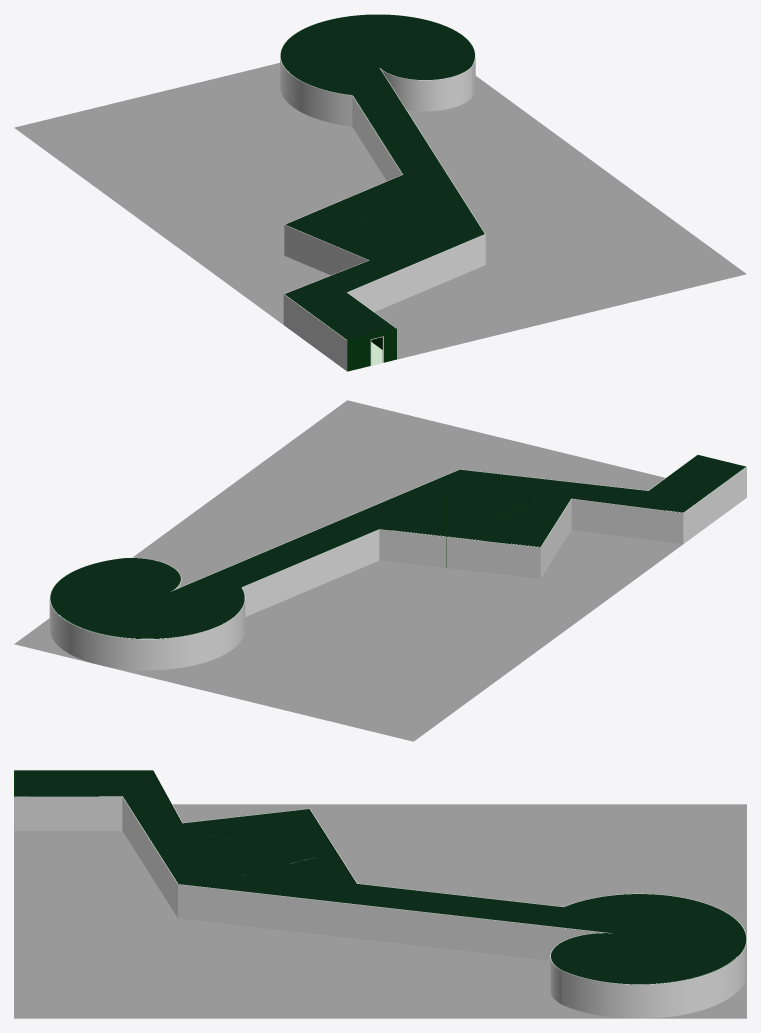
File: gallery.obj
The picture shows the model from 3 angles, top to bottom: view 1: azimuth 30°, elevation 25°; view 2: azimuth 150°, elevation 25°; view 3: azimuth 270°, elevation 25°; orthographic projection. The views are drawn at different scales.
Parts seen in each view (by area): view 1: ground_1, room_17_99, wall_4_23, wall_10_59, wall_9_53, wall_6_34, wall_2_10, wall_12_71, wall_1_4; view 2: ground_1, room_17_99, wall_9_53, wall_12_71, wall_5_28, wall_16_95, wall_15_89, wall_2_10, wall_6_34; view 3: ground_1, room_17_99, wall_11_64, wall_9_53, wall_3_17, wall_4_23.
Part boxes in pixels (x1,y1,x2,y2): ground_1: (14,63,746,365); room_17_99: (281,15,483,339); wall_4_23: (347,234,485,311); wall_10_59: (381,67,471,111); wall_9_53: (280,57,475,126); wall_6_34: (284,225,368,275); wall_2_10: (283,294,347,371); wall_12_71: (352,96,402,180); wall_1_4: (347,328,396,371); ground_1: (14,400,682,741); room_17_99: (51,455,744,638); wall_9_53: (49,599,245,670); wall_12_71: (242,530,379,616); wall_5_28: (571,499,683,543); wall_16_95: (446,537,540,578); wall_15_89: (379,529,446,567); wall_2_10: (683,467,746,543); wall_6_34: (540,499,571,578); ground_1: (14,804,746,1018); room_17_99: (14,770,745,983); wall_11_64: (178,884,605,960); wall_9_53: (563,941,746,1018); wall_3_17: (14,796,122,830); wall_4_23: (122,797,177,917).
Size of the model in its own units: 3284 by 244 by 4745.
